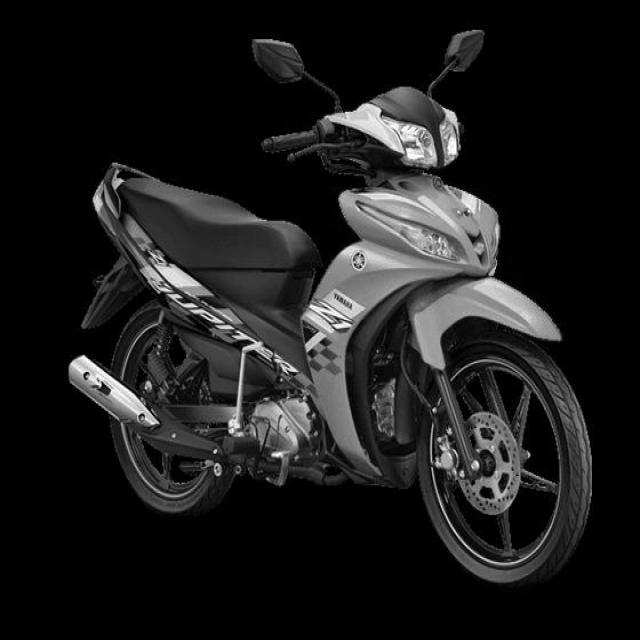Motorcycle: (69, 86, 592, 587)
